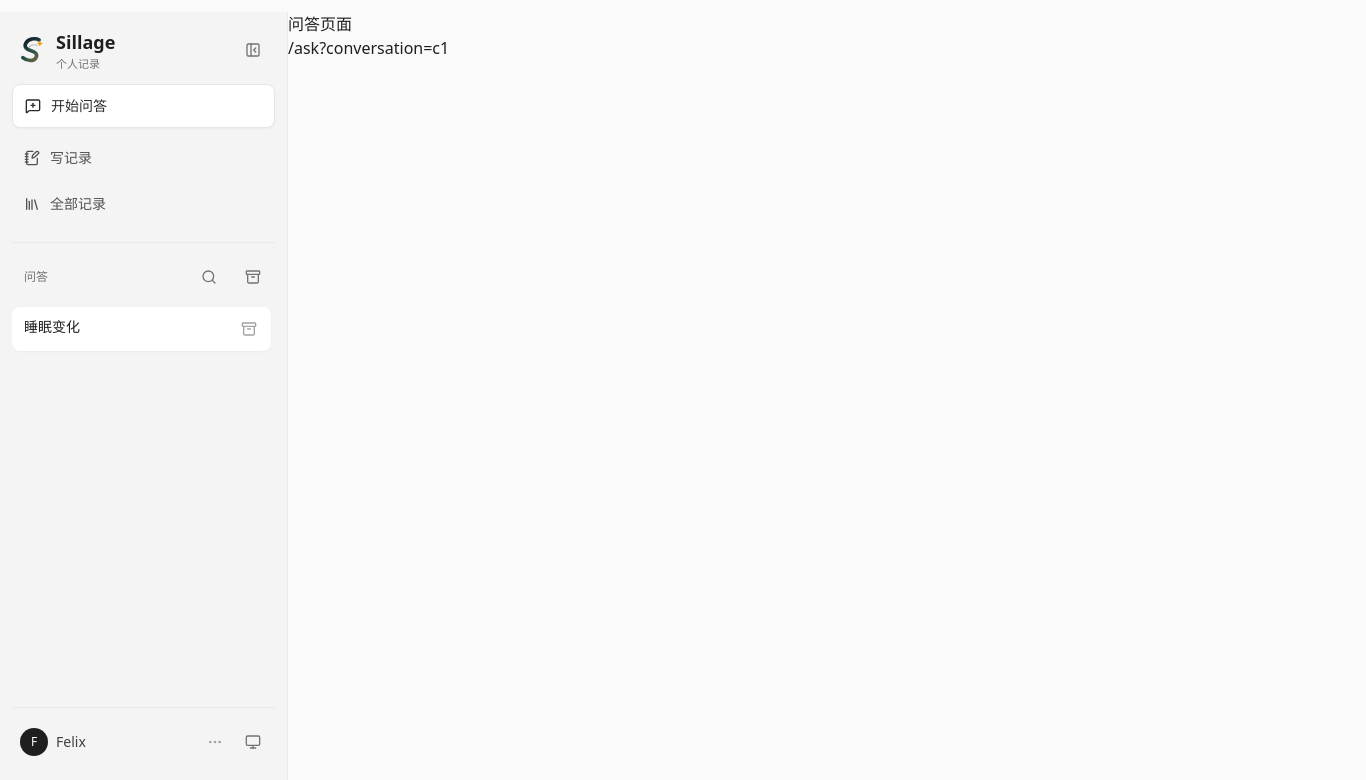
Test: AppShell Ask navigation › clears the active conversation URL after archiving it
Expected: the text with test id "ask-location" reads "/ask?conversation=c1", [288,37,449,59]
What coordinates should you click on to do the following:
click the button named "归档问答：睡眠变化"
I would click on:
 (249, 329)
Its box is [227,307,271,351].
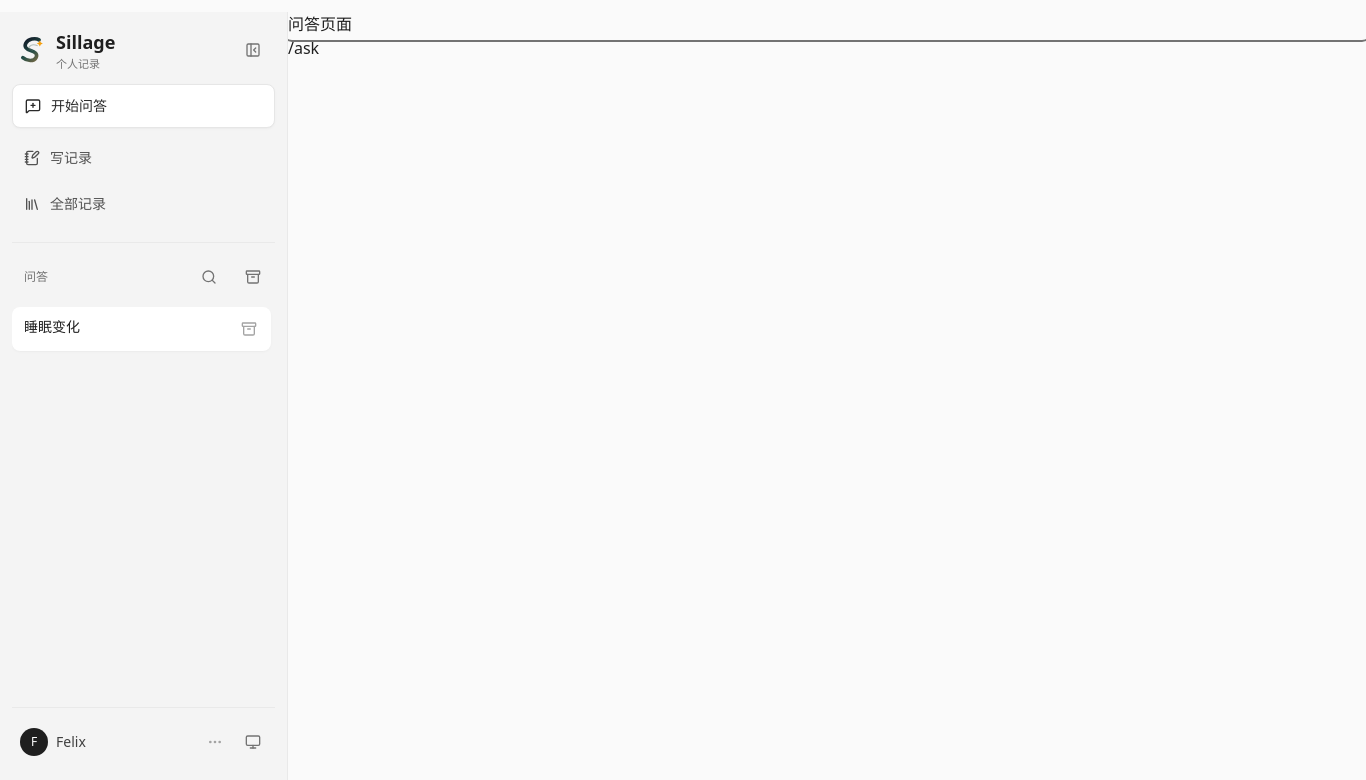
Expected: the text with test id "ask-location" reads "/ask", [288,37,319,59]
